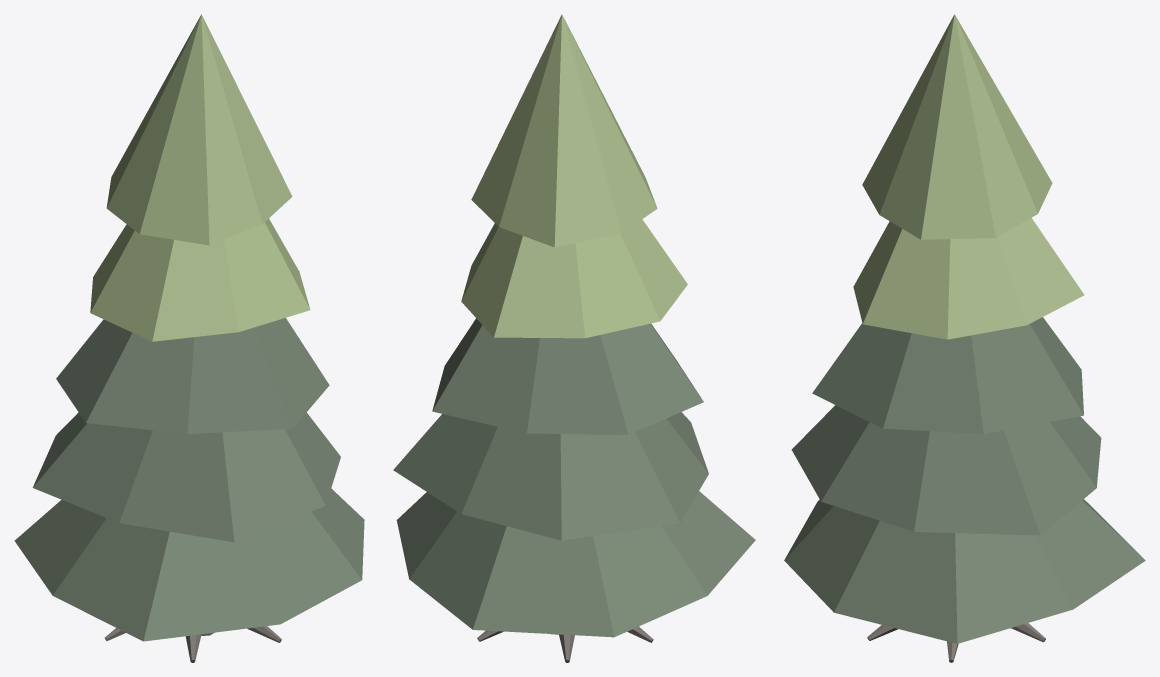
The model's file is hunger_taken_fir.glb.
3 views of the same model, side by side, from view 1: azimuth 30°, elevation 25°; view 2: azimuth 150°, elevation 25°; view 3: azimuth 270°, elevation 25° (orthographic).
Parts seen in each view (by area): view 1: material_01, material_02, material_00; view 2: material_01, material_02, material_00; view 3: material_01, material_02, material_00.
Part boxes in pixels (<box>): material_01: <box>14,318,364,641</box>; material_02: <box>90,14,310,341</box>; material_00: <box>105,626,281,662</box>; material_01: <box>393,318,755,637</box>; material_02: <box>461,14,687,338</box>; material_00: <box>477,626,653,662</box>; material_01: <box>784,317,1145,643</box>; material_02: <box>853,14,1084,339</box>; material_00: <box>867,623,1045,662</box>.
Bounding box in the file's own units: 1.36 × 2.54 × 1.36.
